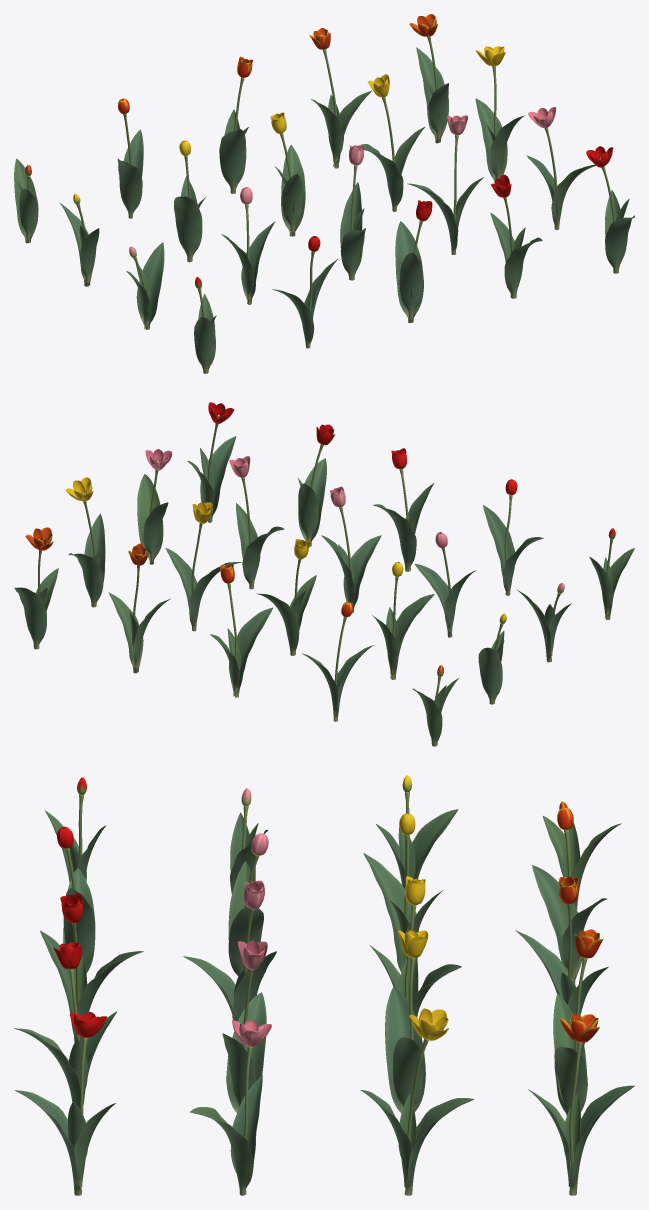
File: tulip-field.glb
3 renders of one model, top to bottom at view 1: azimuth 30°, elevation 25°; view 2: azimuth 150°, elevation 25°; view 3: azimuth 270°, elevation 25°, orthographic. The views are drawn at different scales.
Parts seen in each view (by area): view 1: tulip-opening-red, tulip-full-yellow, tulip-full-flame, tulip-opening-yellow, tulip-opening-pink, tulip-full-red, tulip-opening-flame, tulip-open-red, tulip-closed-yellow, tulip-open-flame, tulip-open-yellow, tulip-closed-flame (+8 smaller); view 2: tulip-full-pink, tulip-full-yellow, tulip-full-flame, tulip-open-red, tulip-opening-flame, tulip-full-red, tulip-opening-pink, tulip-open-pink, tulip-open-yellow, tulip-open-flame, tulip-opening-red, tulip-closed-yellow (+8 smaller); view 3: tulip-open-yellow, tulip-full-yellow, tulip-full-flame, tulip-full-pink, tulip-full-red, tulip-open-flame, tulip-open-pink, tulip-closed-flame, tulip-opening-red, tulip-open-red, tulip-closed-yellow, tulip-opening-flame (+8 smaller).
Boxes of the visible parts, <box> form: tulip-opening-red: <box>395,200,432,323</box>; tulip-full-yellow: <box>475,46,524,184</box>; tulip-full-flame: <box>409,14,448,143</box>; tulip-opening-yellow: <box>270,112,305,236</box>; tulip-opening-pink: <box>340,145,365,280</box>; tulip-full-red: <box>586,146,634,273</box>; tulip-opening-flame: <box>219,56,252,193</box>; tulip-open-red: <box>490,174,542,298</box>; tulip-closed-yellow: <box>174,140,206,262</box>; tulip-open-flame: <box>309,28,371,168</box>; tulip-open-yellow: <box>361,74,424,211</box>; tulip-closed-flame: <box>117,98,143,218</box>; tulip-full-pink: <box>137,449,172,564</box>; tulip-full-yellow: <box>65,477,105,607</box>; tulip-full-flame: <box>14,527,58,649</box>; tulip-open-red: <box>298,424,335,546</box>; tulip-opening-flame: <box>210,564,272,697</box>; tulip-full-red: <box>187,402,236,522</box>; tulip-opening-pink: <box>321,486,381,613</box>; tulip-open-pink: <box>229,456,284,589</box>; tulip-open-yellow: <box>165,502,242,631</box>; tulip-open-flame: <box>108,543,170,673</box>; tulip-opening-red: <box>373,448,433,571</box>; tulip-closed-yellow: <box>372,562,434,679</box>; tulip-open-yellow: <box>385,930,428,1113</box>; tulip-full-yellow: <box>360,1008,474,1195</box>; tulip-full-flame: <box>528,1013,634,1195</box>; tulip-full-pink: <box>190,1020,271,1195</box>; tulip-full-red: <box>14,1012,115,1195</box>; tulip-open-flame: <box>553,929,603,1115</box>; tulip-open-pink: <box>222,940,267,1112</box>; tulip-closed-flame: <box>532,807,606,983</box>; tulip-opening-red: <box>40,893,143,1044</box>; tulip-open-red: <box>14,942,117,1108</box>; tulip-closed-yellow: <box>363,813,442,972</box>; tulip-opening-flame: <box>515,877,608,1015</box>.
Size of the model in its own units: 1.52 by 0.4277 by 1.28.
